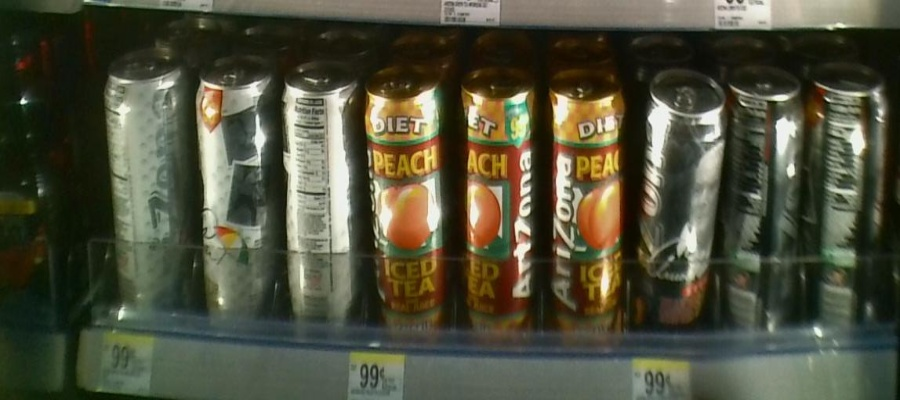bottle: (633, 60, 726, 334), (103, 45, 192, 328), (365, 56, 451, 345), (456, 55, 539, 345), (807, 59, 891, 345), (544, 63, 628, 348), (281, 47, 359, 339), (200, 47, 279, 331), (729, 59, 803, 339)
